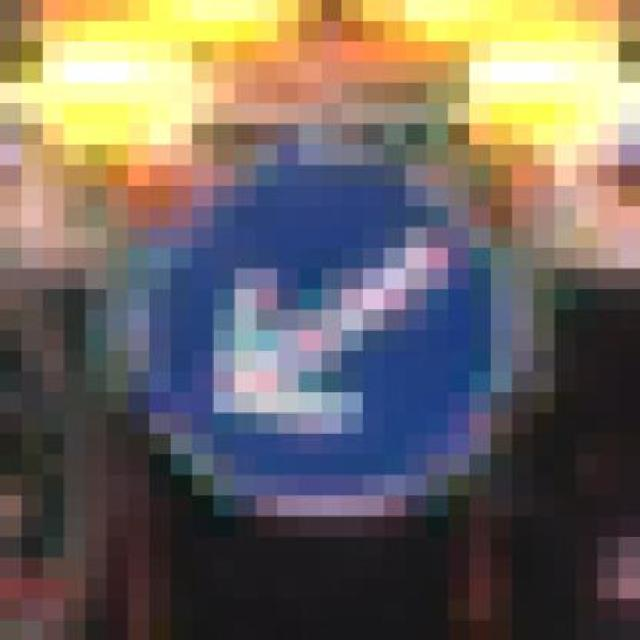Keep-Left: (128, 103, 555, 557)
